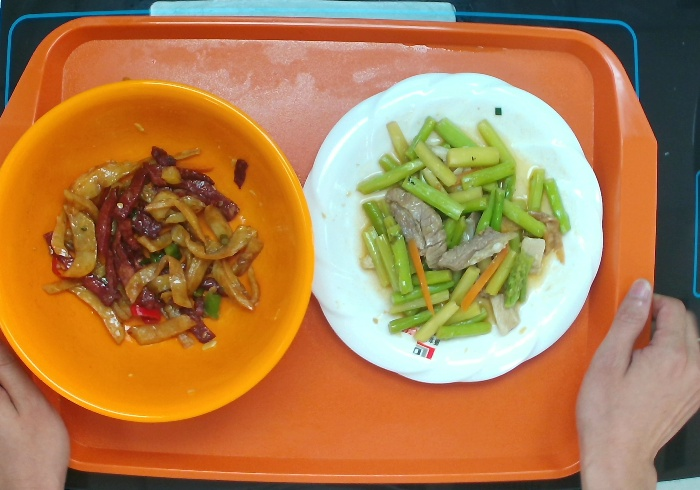ZNLD-Hua_Bian_Wan: (302, 71, 605, 384)
ZNLD-Ju_Se_Tang_Wan: (2, 78, 315, 424)
